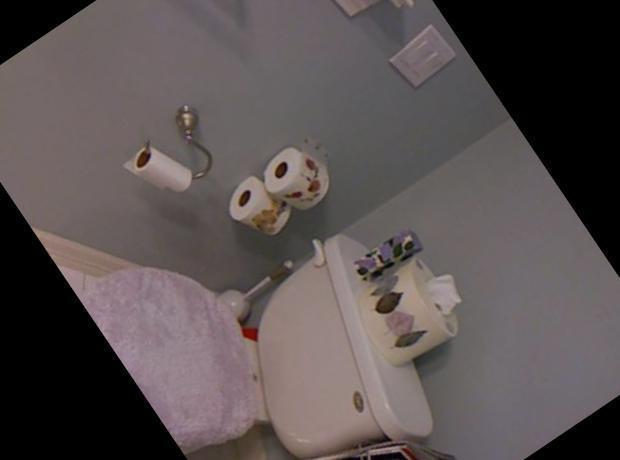Sanitario: (77, 142, 475, 460)
